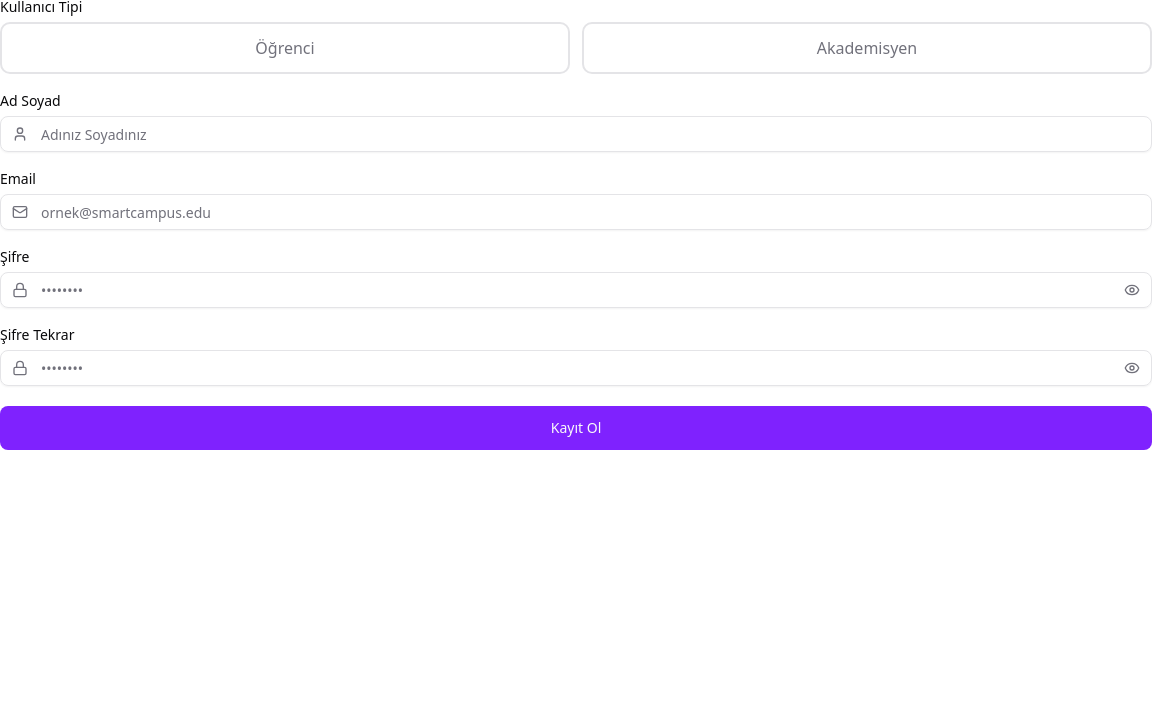
Scenario: RegisterForm › should show faculty specific fields when Faculty is selected
Click the button "Akademisyen".
click(867, 48)  # box [582,22,1151,74]
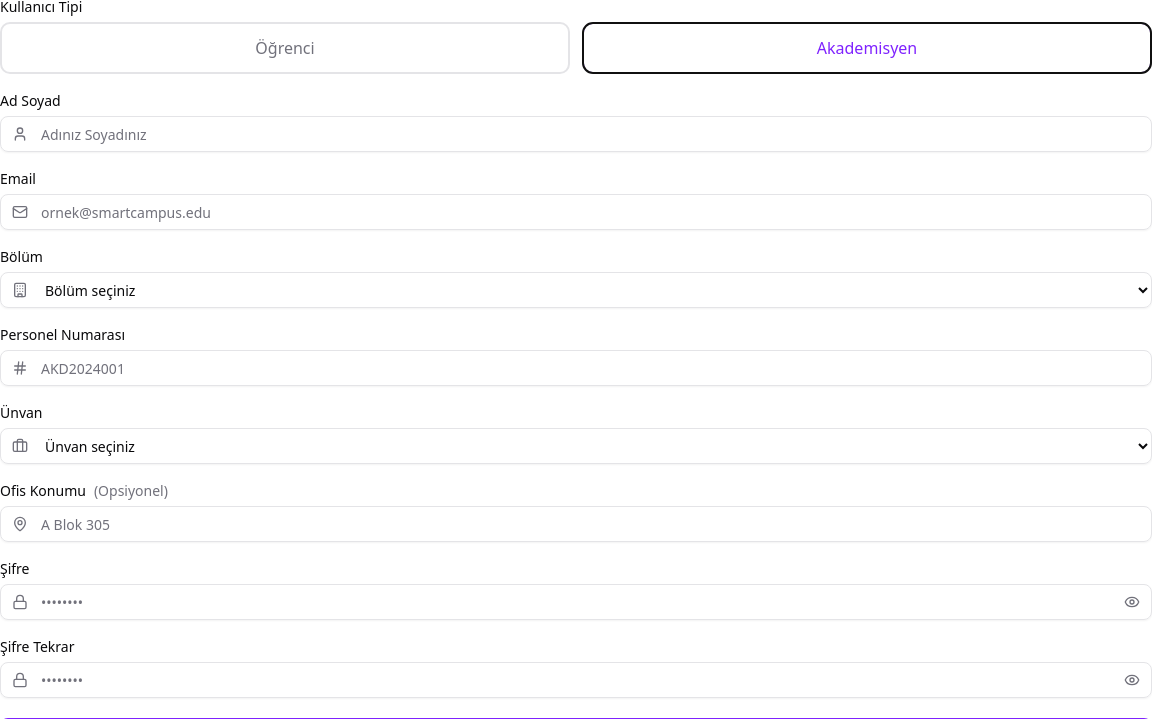
Expected: the field with placeholder "AKD2024001" is shown, [0,350,1151,386]
Expected: the text "Ünvan" is shown, [0,403,42,422]
